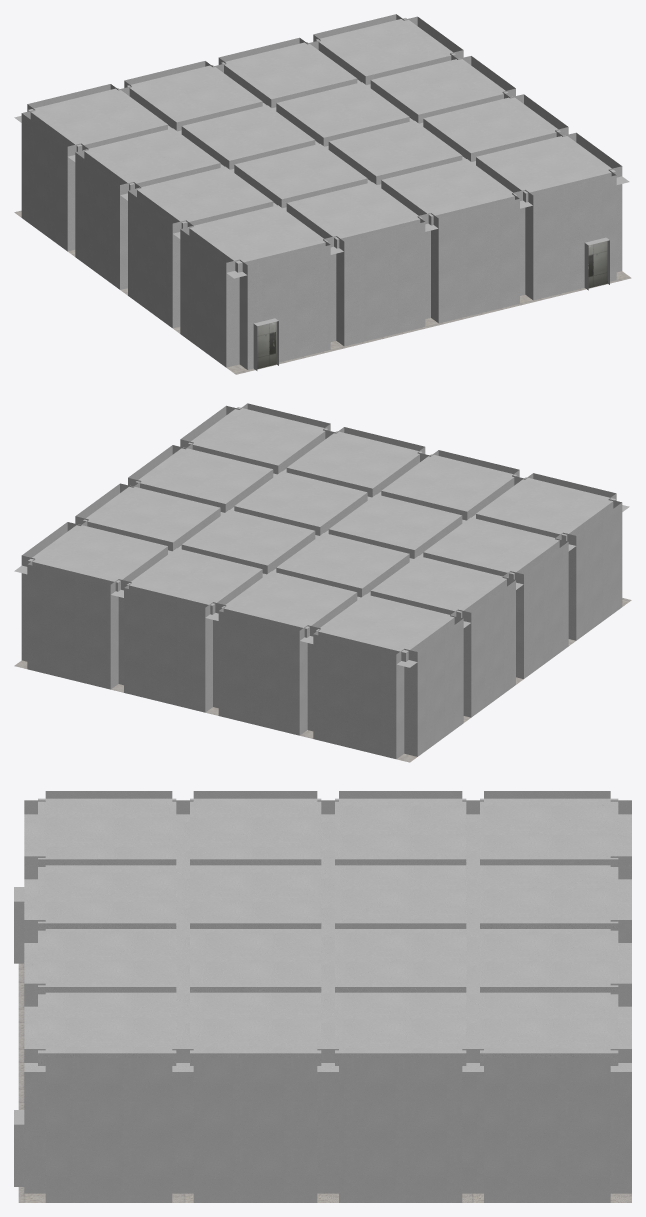
The model's file is home.FBX.
3 views of the same model, one above another, from view 1: azimuth 30°, elevation 25°; view 2: azimuth 150°, elevation 25°; view 3: azimuth 270°, elevation 25° (orthographic). The views are drawn at different scales.
Visible parts, largest first — view 1: roof, wall, floor, door02, door01; view 2: roof, wall, floor; view 3: roof, wall, floor.
Boxes of the visible parts, x1,y1,x2,y2 form: roof: [14, 18, 629, 278]; wall: [21, 14, 622, 370]; floor: [14, 210, 631, 374]; door02: [257, 321, 276, 368]; door01: [588, 241, 607, 288]; roof: [14, 407, 629, 667]; wall: [21, 403, 622, 759]; floor: [14, 598, 631, 762]; roof: [24, 798, 631, 1071]; wall: [14, 791, 631, 1202]; floor: [18, 963, 631, 1202].
Size of the model in its own units: 18.38 by 4.66 by 18.
3 materials, 3 textured.
